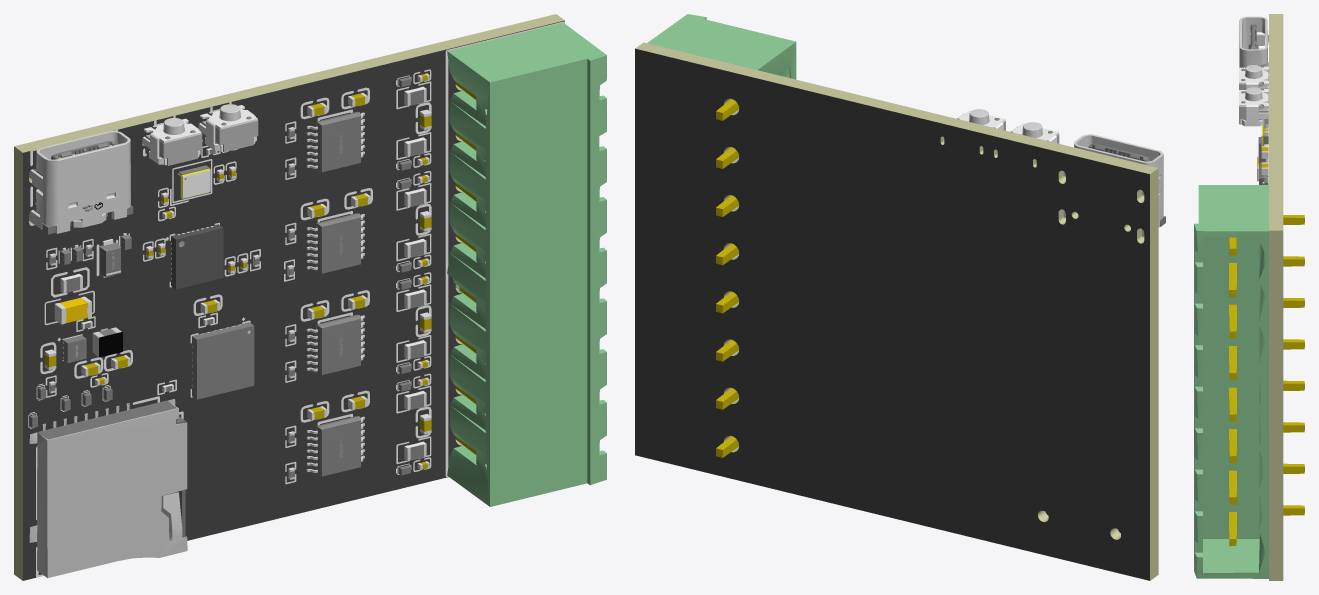
Rendered from thermocouple4ch.glb.
The picture shows the model from 3 angles, left to right: view 1: azimuth 30°, elevation 25°; view 2: azimuth 150°, elevation 25°; view 3: azimuth 270°, elevation 25°; orthographic projection. The views are drawn at different scales.
Visible parts, largest first — view 1: Node; view 2: Node; view 3: Node.
Boxes of the visible parts, <box> form: Node: <box>14,14,606,580</box>; Node: <box>635,14,1165,580</box>; Node: <box>1194,14,1304,580</box>.
Bounding box in the file's own units: 56.86 × 43.21 × 12.29.
